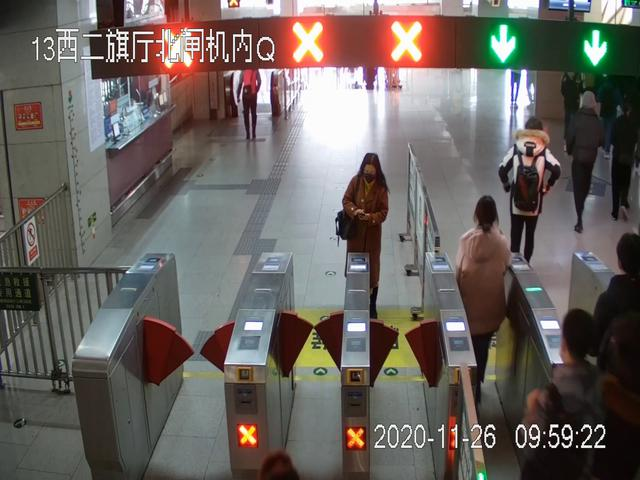person: (519, 309, 640, 480), (455, 195, 513, 409), (498, 117, 560, 269), (335, 153, 388, 319), (566, 92, 600, 232), (235, 67, 262, 143)
